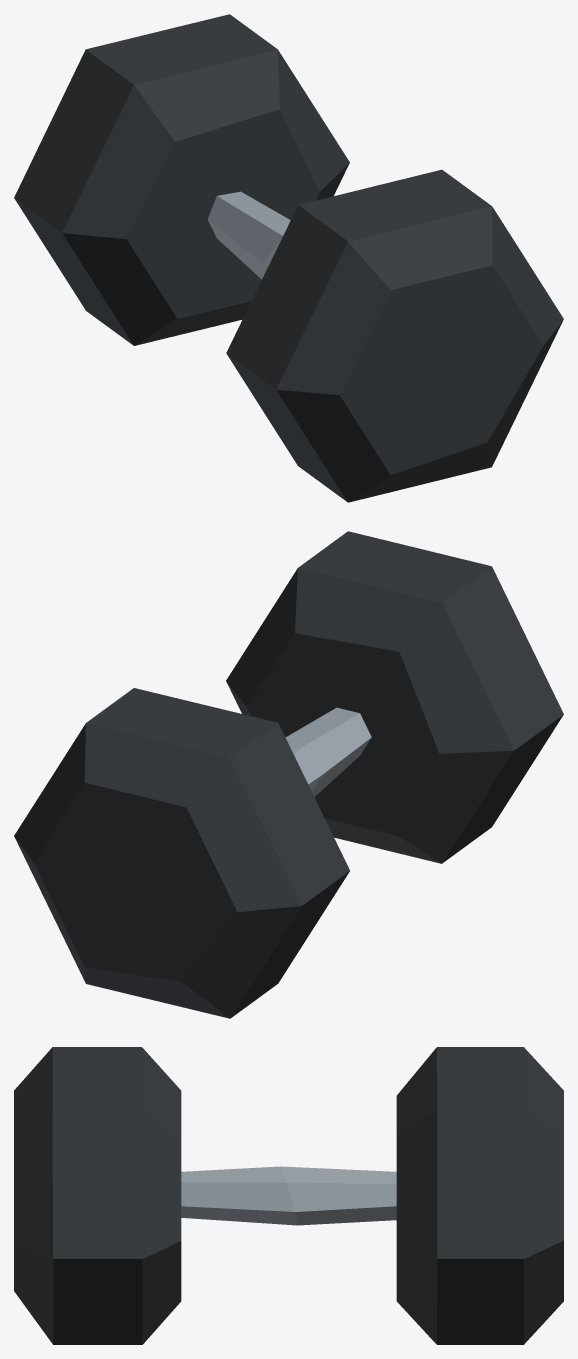
File: SM_Prop_Dumbbell_01.glb
3 renders of one model, top to bottom at view 1: azimuth 30°, elevation 25°; view 2: azimuth 150°, elevation 25°; view 3: azimuth 270°, elevation 25°, orthographic. The views are drawn at different scales.
Visible parts, largest first — view 1: SM_Prop_Dumbbell_01; view 2: SM_Prop_Dumbbell_01; view 3: SM_Prop_Dumbbell_01.
Part boxes in pixels (x1,y1,x2,y2): SM_Prop_Dumbbell_01: (14,14,563,502); SM_Prop_Dumbbell_01: (14,531,563,1018); SM_Prop_Dumbbell_01: (14,1047,563,1344).
Bounding box in the file's own units: 0.2044 × 0.177 × 0.3761.
1 material, 1 textured.
